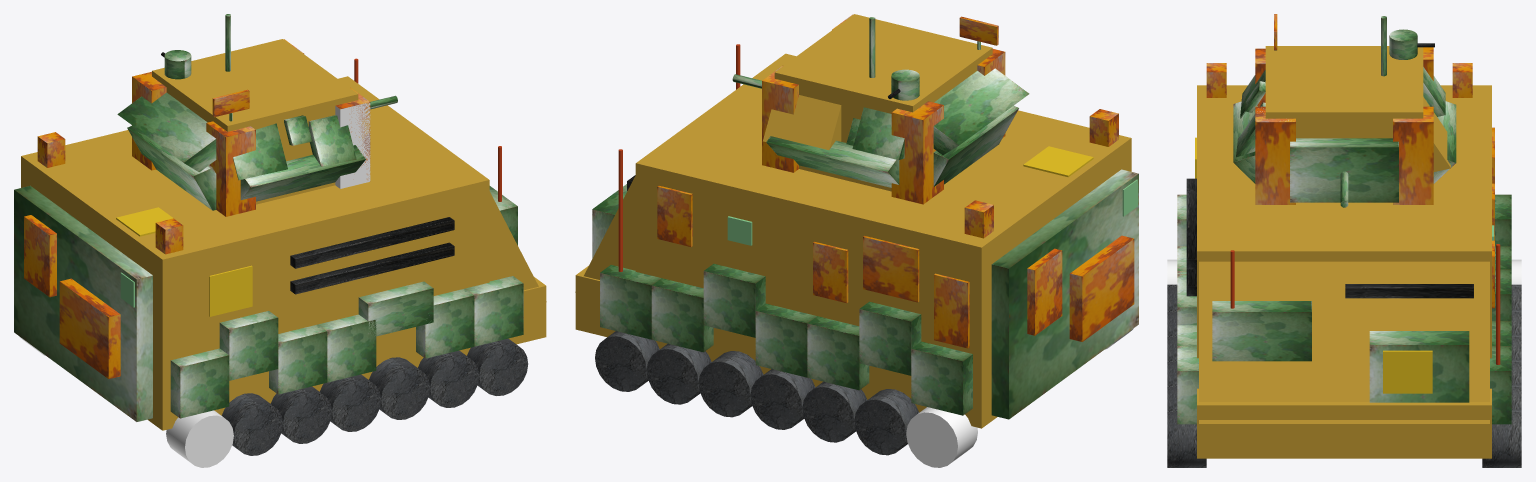
The picture shows the model from 3 angles, left to right: view 1: azimuth 30°, elevation 25°; view 2: azimuth 150°, elevation 25°; view 3: azimuth 270°, elevation 25°; orthographic projection. The views are drawn at different scales.
Parts seen in each view (by area): view 1: m2, hatch, Cube__3_, Cube__5__1, Cube__19_, hatch__3_, Cube__4_, Cube__4__1, Cube__5_, Cube__9_, Cube__8_, Cube__7_ (+30 smaller); view 2: m2, Cube__3_, hatch, Cube__4__2, Cube__19_, Cube__5__1, hatch__3_, Cube__10_, hatch__15_, Cube__11_, Cube__14_, Cube__12_ (+30 smaller); view 3: m2, Cube__2_, Cube__1_, hatch, hatch__1_, Cube__9__1, Cube__10__1, hatch__12_, hatch__13_, Cube__22_, Cube__12__1, Cube__9_ (+21 smaller).
Part boxes in pixels (x1=…): m2: x1=21, y1=76, x2=489, y2=430; hatch: x1=152, y1=39, x2=358, y2=204; Cube__3_: x1=14, y1=185, x2=152, y2=420; Cube__5__1: x1=14, y1=206, x2=152, y2=421; Cube__19_: x1=59, y1=278, x2=120, y2=378; hatch__3_: x1=117, y1=92, x2=216, y2=172; Cube__4_: x1=170, y1=348, x2=229, y2=418; Cube__4__1: x1=219, y1=311, x2=278, y2=380; Cube__5_: x1=269, y1=324, x2=327, y2=394; Cube__9_: x1=465, y1=276, x2=523, y2=346; Cube__8_: x1=416, y1=288, x2=474, y2=358; Cube__7_: x1=358, y1=281, x2=433, y2=337; m2: x1=635, y1=53, x2=1131, y2=428; Cube__3_: x1=991, y1=169, x2=1138, y2=419; hatch: x1=774, y1=14, x2=992, y2=191; Cube__4__2: x1=1005, y1=174, x2=1138, y2=366; Cube__19_: x1=1069, y1=235, x2=1134, y2=341; Cube__5__1: x1=991, y1=220, x2=1100, y2=418; hatch__3_: x1=933, y1=68, x2=1029, y2=154; Cube__10_: x1=911, y1=341, x2=972, y2=415; hatch__15_: x1=891, y1=101, x2=943, y2=204; Cube__11_: x1=859, y1=301, x2=921, y2=375; Cube__14_: x1=703, y1=263, x2=765, y2=337; Cube__12_: x1=807, y1=316, x2=869, y2=390; m2: x1=1197, y1=85, x2=1491, y2=358; Cube__2_: x1=1199, y1=261, x2=1489, y2=423; Cube__1_: x1=1197, y1=388, x2=1491, y2=458; hatch: x1=1265, y1=46, x2=1423, y2=138; hatch__1_: x1=1290, y1=138, x2=1398, y2=202; Cube__9__1: x1=1212, y1=301, x2=1311, y2=361; Cube__10__1: x1=1369, y1=331, x2=1469, y2=402; hatch__12_: x1=1255, y1=106, x2=1295, y2=204; hatch__13_: x1=1393, y1=106, x2=1433, y2=204; Cube__22_: x1=1383, y1=350, x2=1432, y2=393; Cube__12__1: x1=1345, y1=284, x2=1473, y2=298; Cube__9_: x1=1177, y1=346, x2=1198, y2=424.
Bounding box in the file's own units: 517 × 413 × 368.
